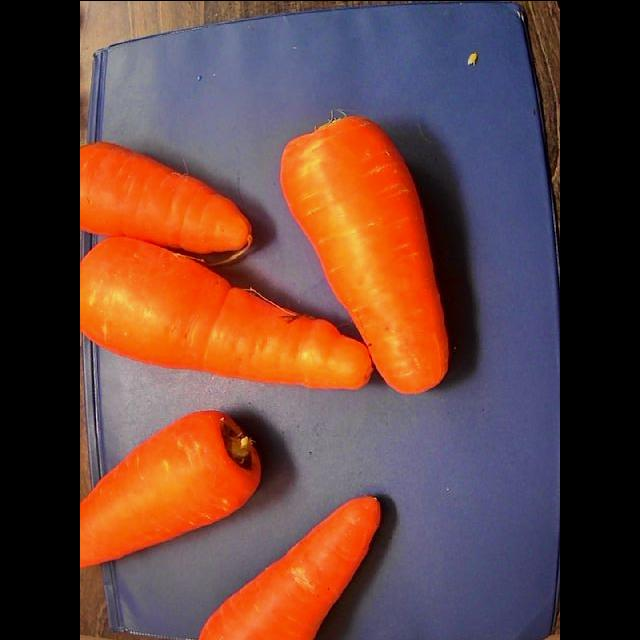zanahoria: (280, 116, 448, 392), (80, 238, 372, 388), (80, 411, 260, 567), (199, 496, 380, 640), (80, 142, 250, 255)
